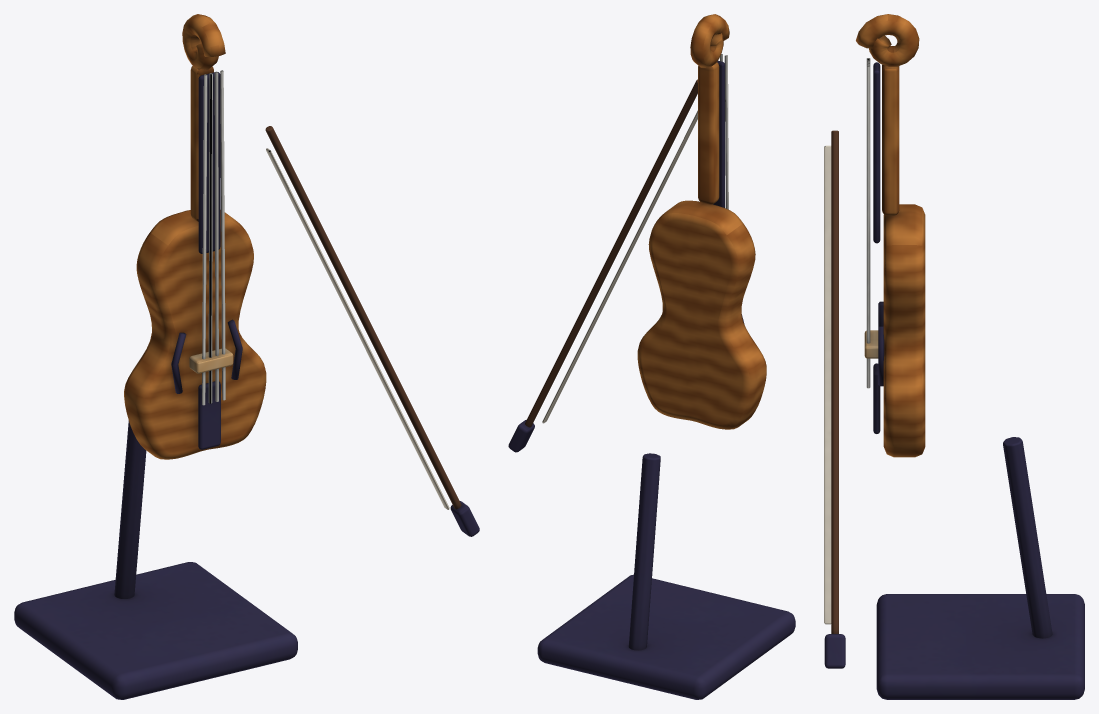
File: Violin.fbx
3 views of the same model, side by side, from view 1: azimuth 30°, elevation 25°; view 2: azimuth 150°, elevation 25°; view 3: azimuth 270°, elevation 25° (orthographic). The views are drawn at different scales.
Parts seen in each view (by area): view 1: Violin_Body, Bow_Mesh, String_0_Mesh.004, String_1_Mesh.004, String_3_Mesh.004, String_2_Mesh.004; view 2: Violin_Body, Bow_Mesh, String_0_Mesh.004; view 3: Violin_Body, Bow_Mesh, String_3_Mesh.004.
Boxes of the visible parts, <box> form: Violin_Body: <box>14,14,297,699</box>; Bow_Mesh: <box>265,126,479,536</box>; String_0_Mesh.004: <box>202,74,207,405</box>; String_1_Mesh.004: <box>208,73,212,403</box>; String_3_Mesh.004: <box>220,70,225,400</box>; String_2_Mesh.004: <box>214,71,218,401</box>; Violin_Body: <box>537,14,795,699</box>; Bow_Mesh: <box>508,79,697,452</box>; String_0_Mesh.004: <box>724,55,728,209</box>; Violin_Body: <box>856,14,1084,699</box>; Bow_Mesh: <box>824,130,845,668</box>; String_3_Mesh.004: <box>866,65,870,388</box>.
Bounding box in the file's own units: 0.5476 × 1.03 × 0.376.
